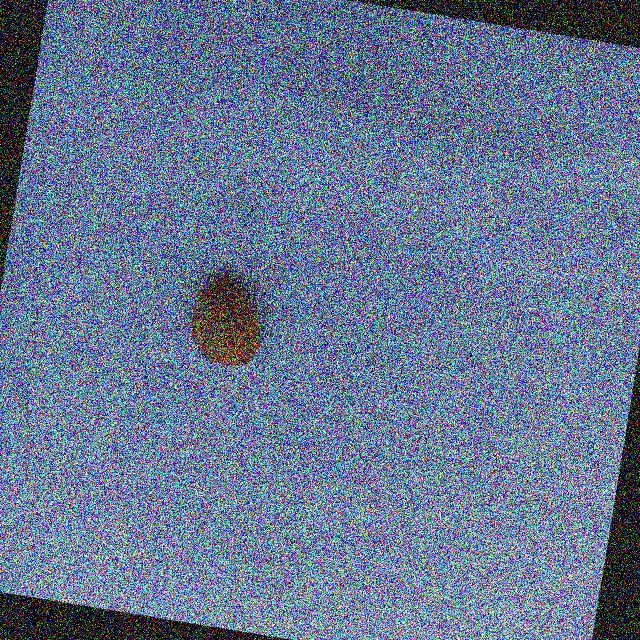grade2: (182, 267, 276, 374)
